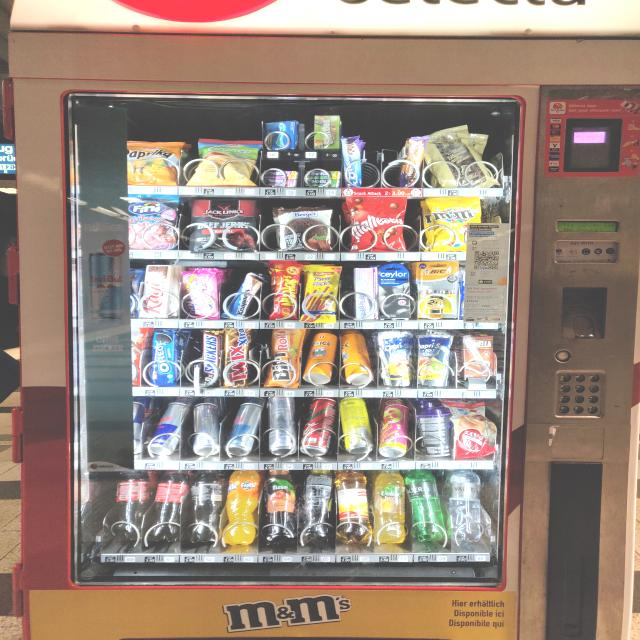7days_croissantschoko_packung_80_1_0000000000003: (454, 401, 494, 457)
airwaves_menthoneucalyptus_riegel_14_1_50173167: (262, 119, 300, 150)
bifi_roll__50__4251097402635: (263, 329, 306, 389)
c-swiss_dosenabisicetea__33__9120025930135: (303, 330, 340, 386), (341, 335, 373, 388)
caferoyal_classicmacchiato__33__7617014164487: (415, 404, 452, 458)
caprisun_multivitamin__20__4000177605004: (377, 332, 417, 388), (416, 333, 457, 386)
coke__dose_33__54491472: (300, 398, 338, 456)
coke__flasche_50__54491472: (105, 466, 151, 544), (145, 474, 185, 548)
coke_zero_flasche_50__5449000131836: (185, 475, 224, 546)
comella_schokodrink__33__7613100037253: (462, 335, 500, 378)
fanta___50__40822938: (222, 471, 262, 545)
fini_galaxymix_packung_100_1_8410525150364: (126, 195, 182, 252)
fini_jellykisses_packung_80_1_8410525116704: (182, 271, 220, 319)
fuse_lemon__50__5449000235947: (300, 470, 332, 540)
fuse_lemon_dose_33__5449000235947: (336, 397, 376, 452)
fuse_peach__50__5449000236623: (258, 470, 300, 549)
jacklinks_beefjerkyorginal__25__4047751730219: (187, 197, 258, 254)
jlbrichard_gauffrechoko__90__5410495002079: (427, 127, 498, 188)
kagi___50__7610046000259: (141, 264, 173, 320)
knoppers_riegel____4035800488808: (226, 273, 262, 318)
lorenz_nicnacs__40__4018077798818: (270, 260, 304, 322)
malburner_partysticks__40__7610200279682: (301, 262, 343, 324)
maltesers___100__5000159023061: (347, 195, 411, 254)
mnms_gelb__45__40111445: (426, 198, 483, 253)
oreo___66__84100733: (150, 328, 181, 389)
ramseier_schorle__50__7610057012456: (334, 470, 370, 544)
redbull___33__90162909: (263, 394, 297, 457), (148, 402, 188, 454), (193, 404, 224, 458)
redbull_light__33__90162800: (228, 405, 264, 456)
skittles_sour_riegel_51_1_0000000000004: (309, 114, 343, 152)
snickers___50__5000159461122: (199, 329, 227, 390)
stimorol_spearmint_riegel_14_1_0000000000005: (302, 168, 342, 190)
stimorol_wildcherry_riegel_14_1_57060330: (267, 169, 302, 188)
tiki_himbeer_brause__50__00000000009342: (380, 400, 415, 460)
twix___50__5000159459228: (220, 327, 256, 388)
valser_classic__50__76404160: (409, 472, 447, 544)
valser_still__50__7610335002575: (447, 468, 486, 542)
volvic_pinapple__50__305764335648: (374, 468, 408, 548)
zweifel_graneochilli__100__7610095184009: (183, 137, 266, 187)
zweifel_paprika__90__7610095013002: (124, 136, 187, 188)
